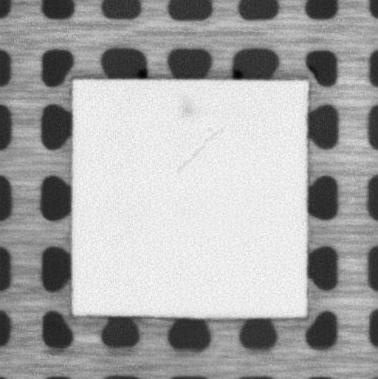DIE_CRACK: (176, 126, 228, 176)
